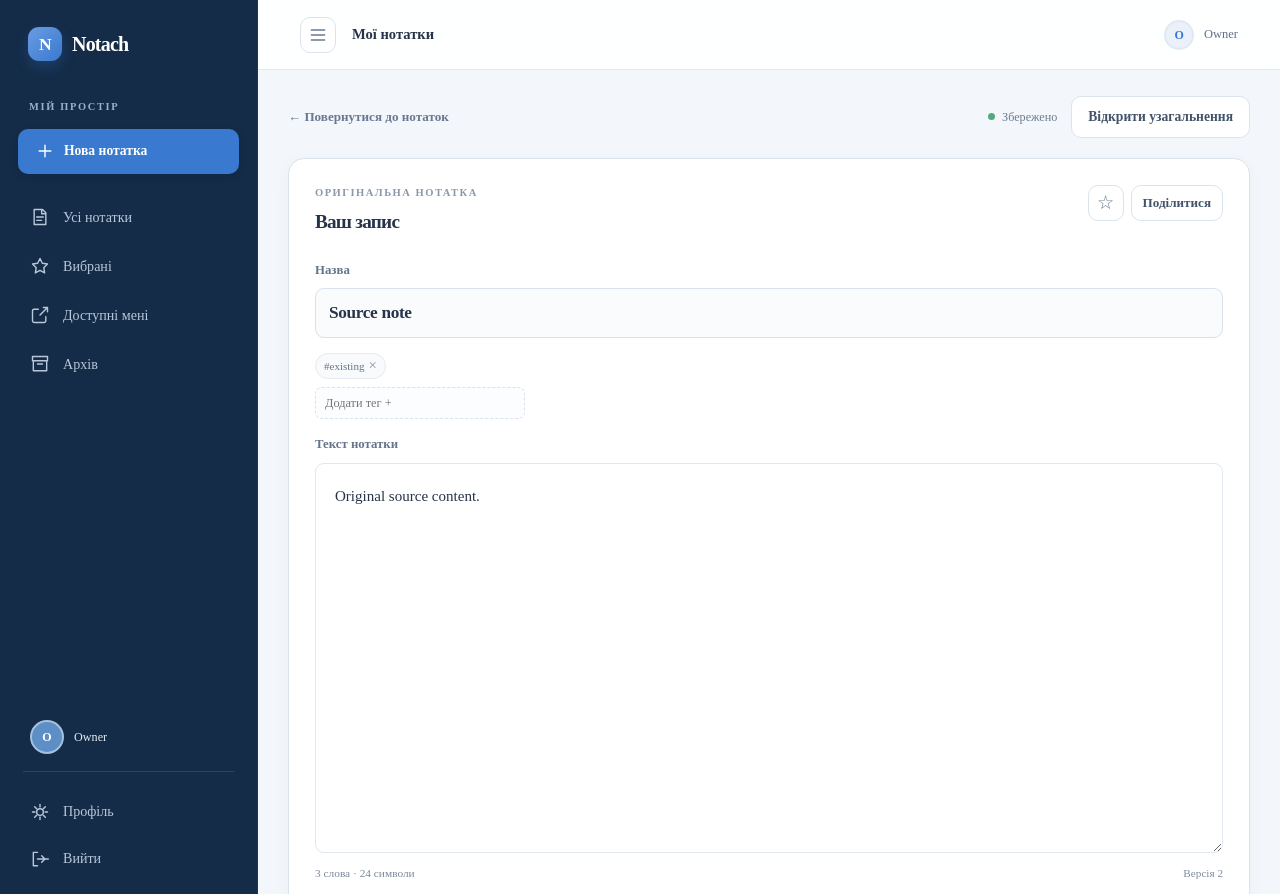
Test: note summary workspace › autosaves manual title and tag changes and receives remote metadata
Expected: the field showing "Source note" is shown, [315, 288, 1223, 338]
Expected: the heading "Асистент узагальнення" is not shown
Click the button "Відкрити узагальнення".
click(1161, 117)  # box [1071, 96, 1250, 138]
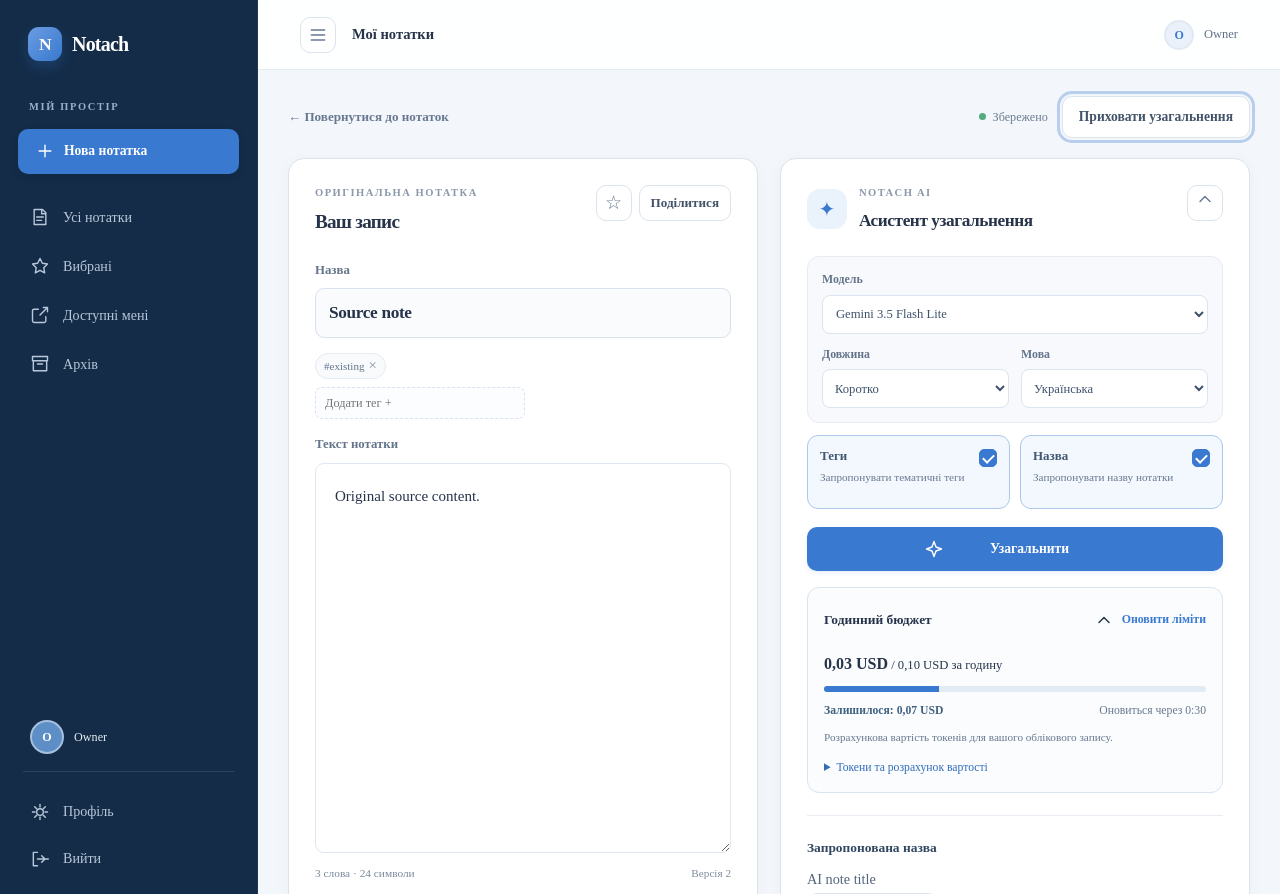
Replace the text in the field labelled "Назва" with "Changed title" at point(523, 313), box [315, 288, 731, 338]
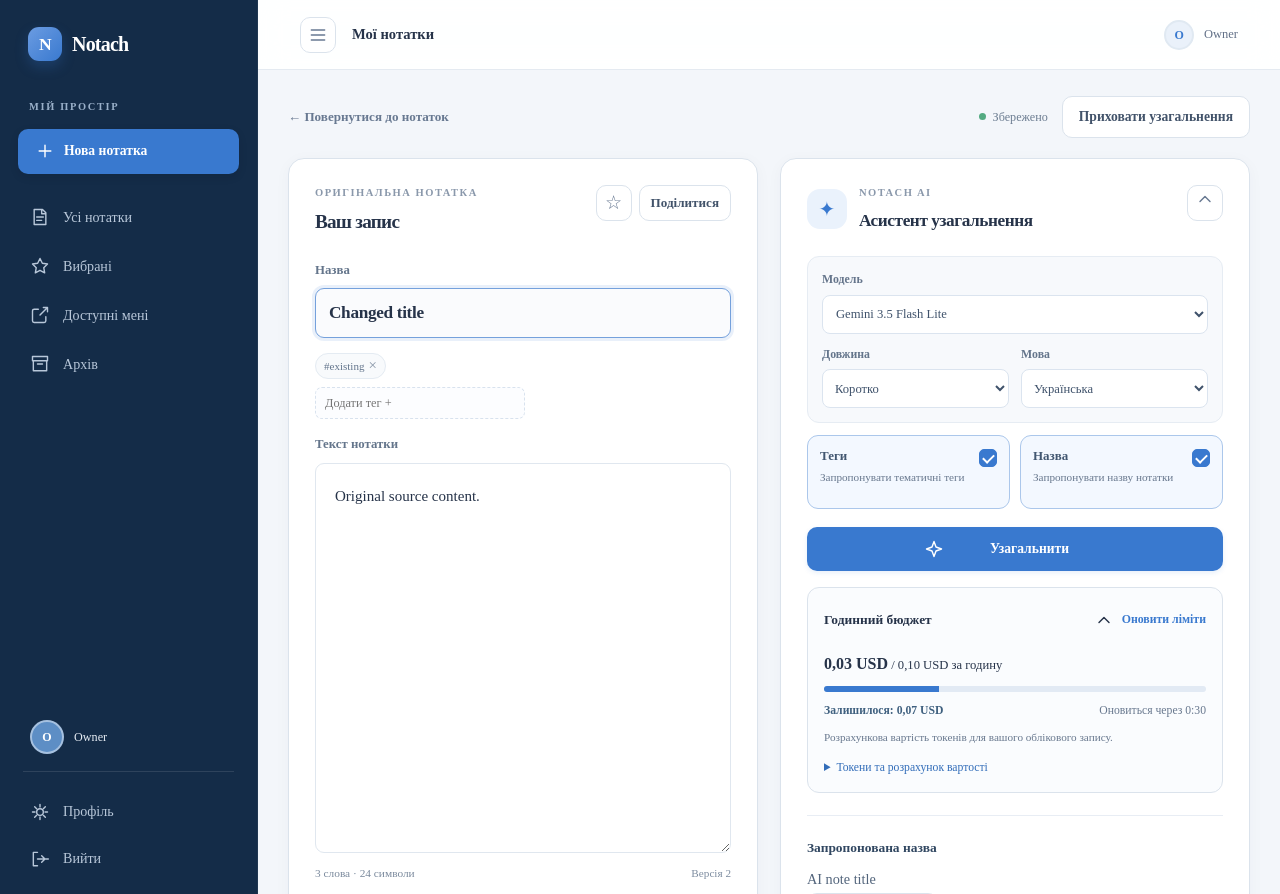
Type "manual" into the field named "Новий тег".
click(420, 403); type("manual")  # box [315, 387, 525, 419]
Then press Enter
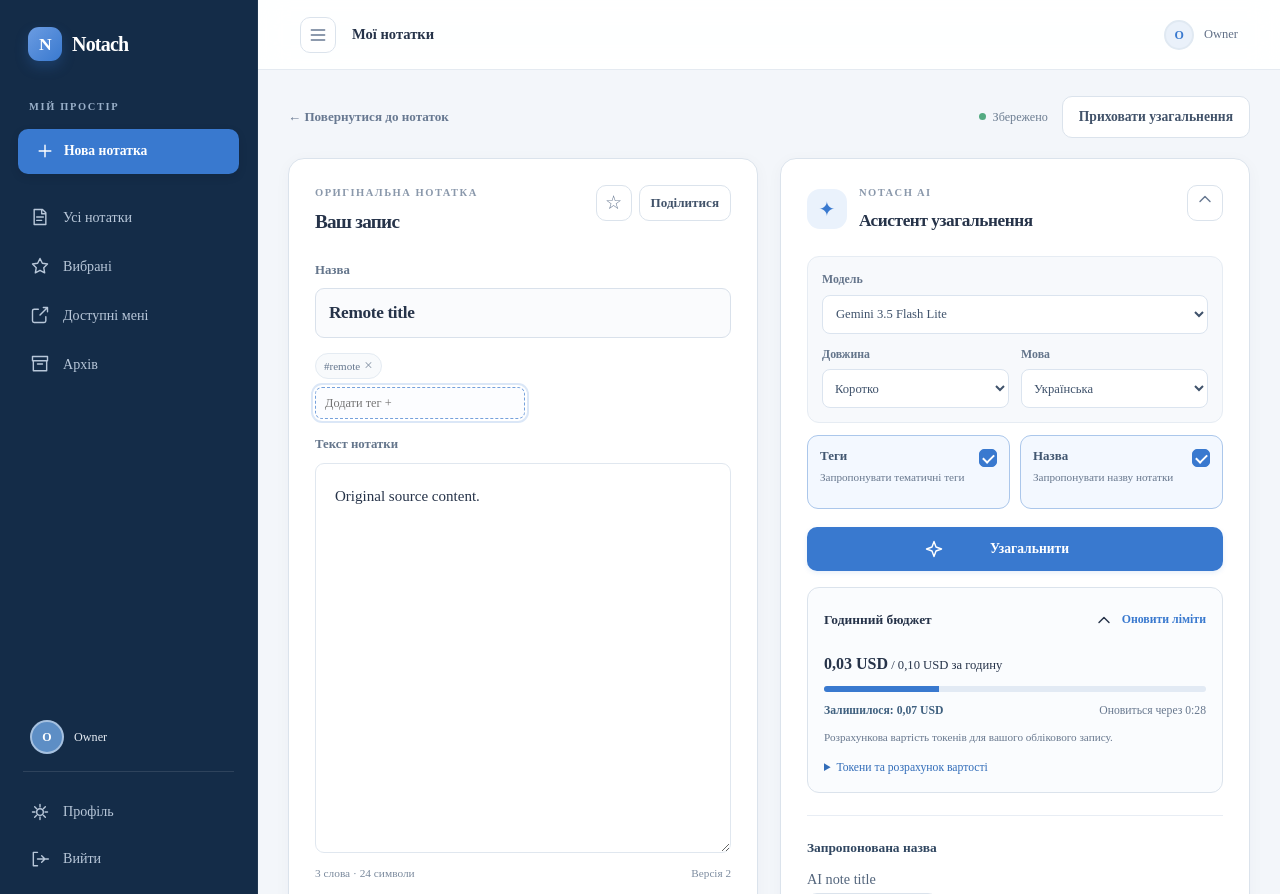
Expected: the field labelled "Назва" holds "Remote title", [315, 288, 731, 338]
Expected: the button named "Видалити тег remote" is shown, [364, 360, 373, 372]
